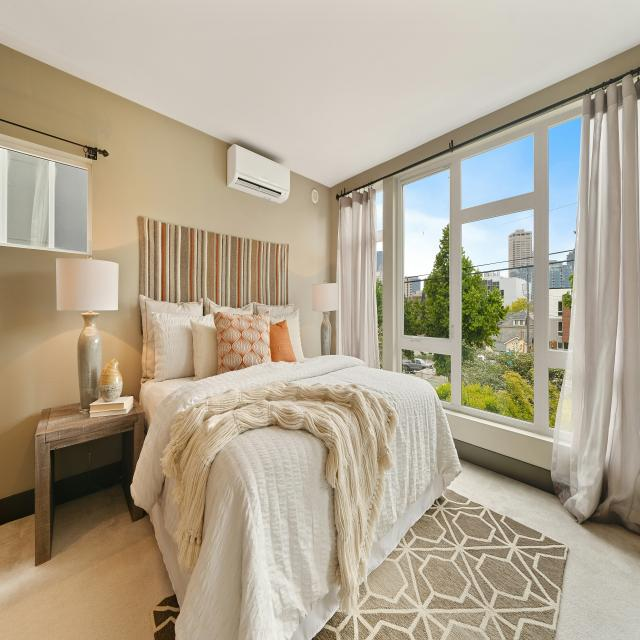floor: (312, 458, 640, 640), (0, 483, 181, 640)
